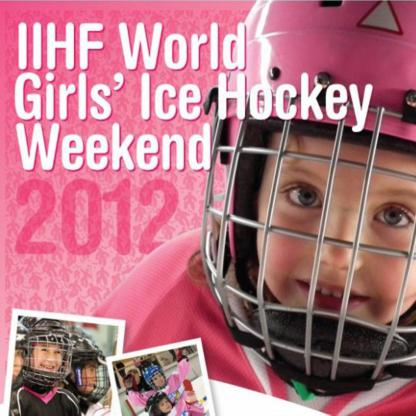face: (259, 121, 416, 329), (34, 342, 64, 376), (79, 363, 100, 394), (158, 399, 173, 413), (153, 375, 167, 389)
